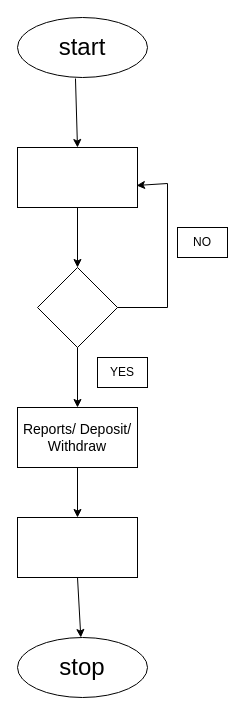
The diagram is 245 pixels wide and 715 high, and some of its shapes have lost their labels. The shapes that lost their labels are listed below. From the top down, each one's centre as x and y in pixels, then its label:
At (77,177): "login / Register".
At (77,307): "success".
At (77,547): "logout".
